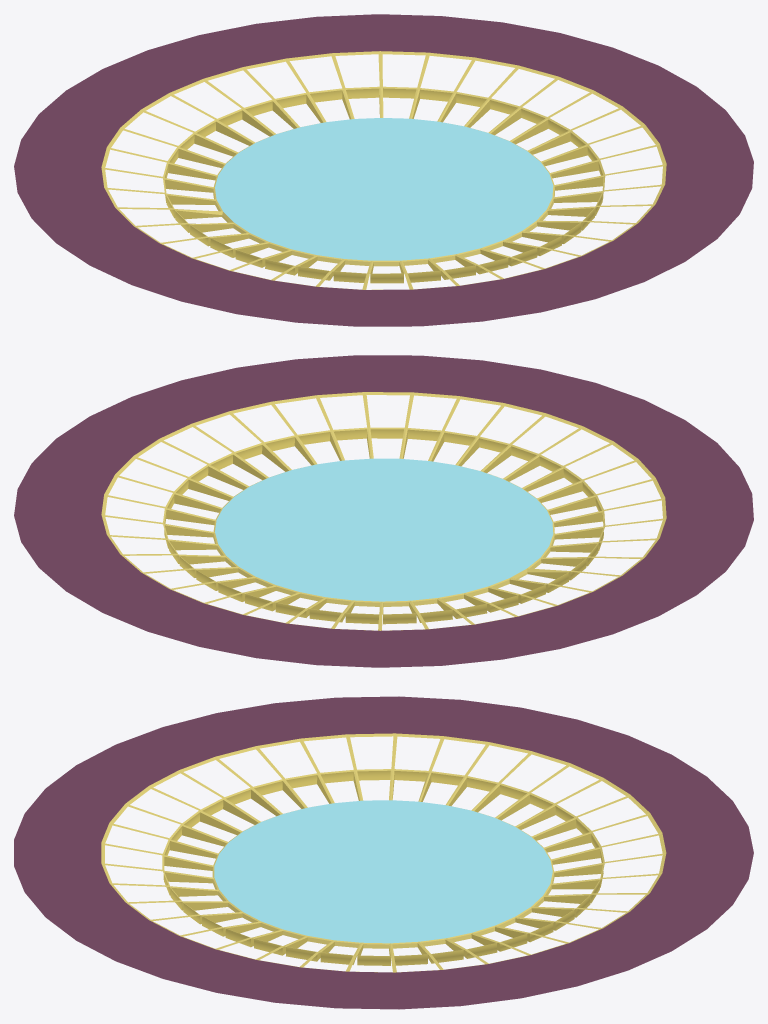
The model's file is rouletteJ.glb.
3 views of the same model, one above another, from view 1: azimuth 30°, elevation 25°; view 2: azimuth 150°, elevation 25°; view 3: azimuth 270°, elevation 25° (orthographic).
Visible parts, largest first — view 1: RuletaSpinJ-col; view 2: RuletaSpinJ-col; view 3: RuletaSpinJ-col.
Part boxes in pixels (x1,y1,x2,y2): RuletaSpinJ-col: [14, 14, 753, 326]; RuletaSpinJ-col: [14, 355, 753, 667]; RuletaSpinJ-col: [14, 696, 753, 1009].
Size of the model in its own units: 0.5347 by 0.0187 by 0.5342.
Materials: 1 (1 with a texture image).
